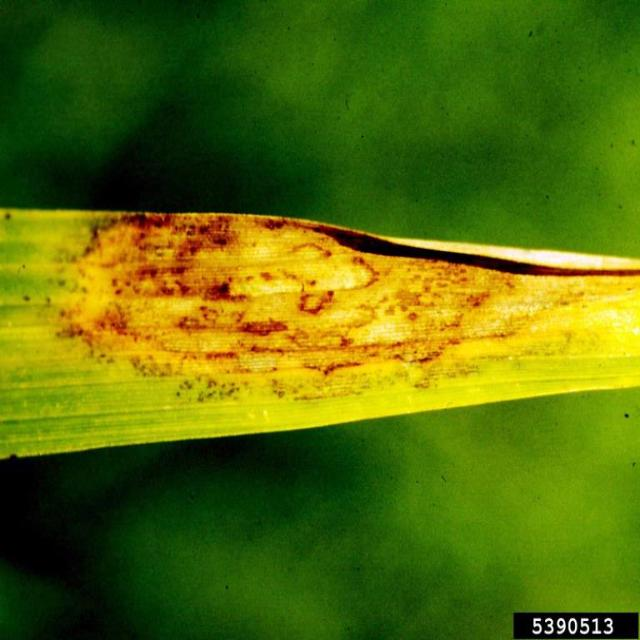Bacterial leaf blight: (28, 210, 640, 420)
